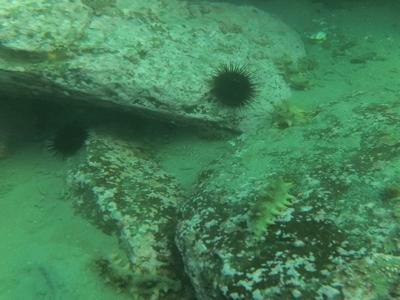holothurian: (103, 251, 181, 297), (248, 174, 292, 244), (275, 50, 310, 93), (273, 102, 304, 127)
urchin: (210, 64, 256, 108), (51, 126, 85, 151)
